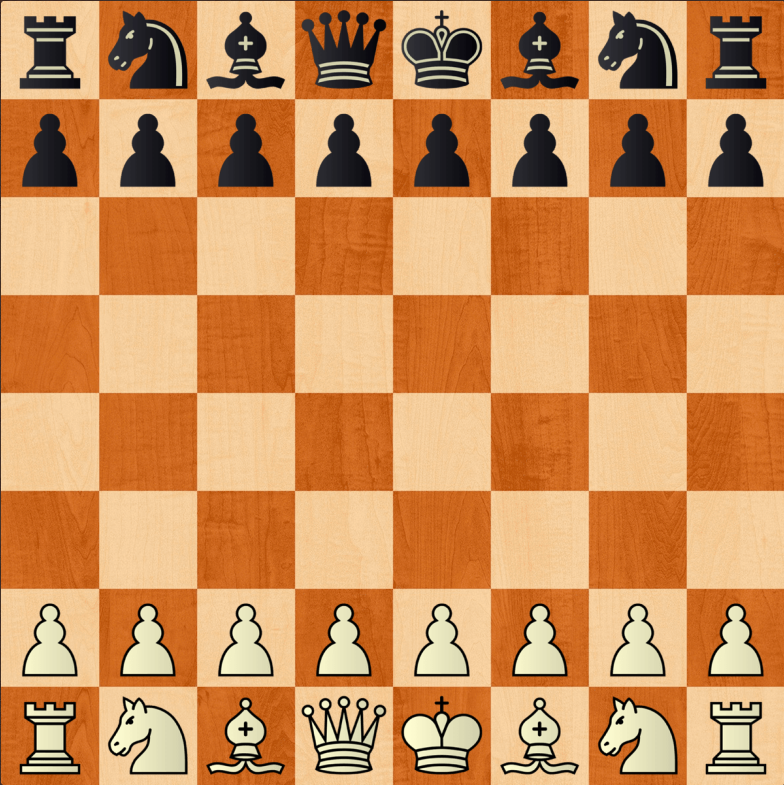white_rook: (705, 700, 765, 776), (20, 702, 78, 774)
